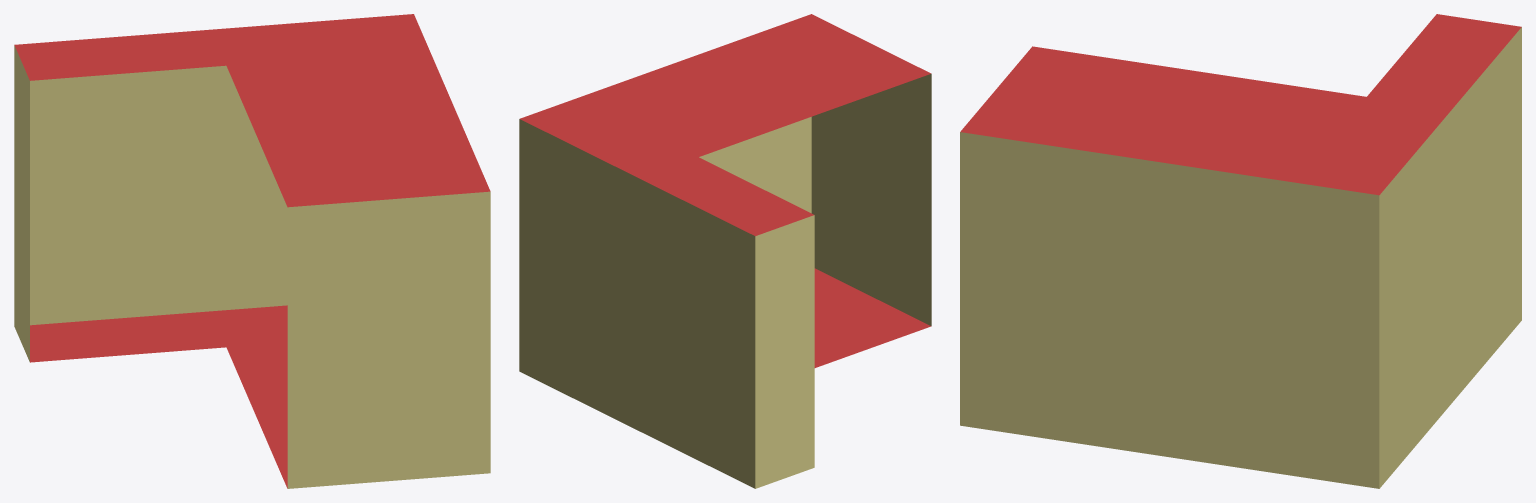
3 renders of one model, left to right at view 1: azimuth 30°, elevation 25°; view 2: azimuth 150°, elevation 25°; view 3: azimuth 270°, elevation 25°, orthographic. The views are drawn at different scales.
Size of the model in its own units: 7.32 by 9.58 by 5.53.
